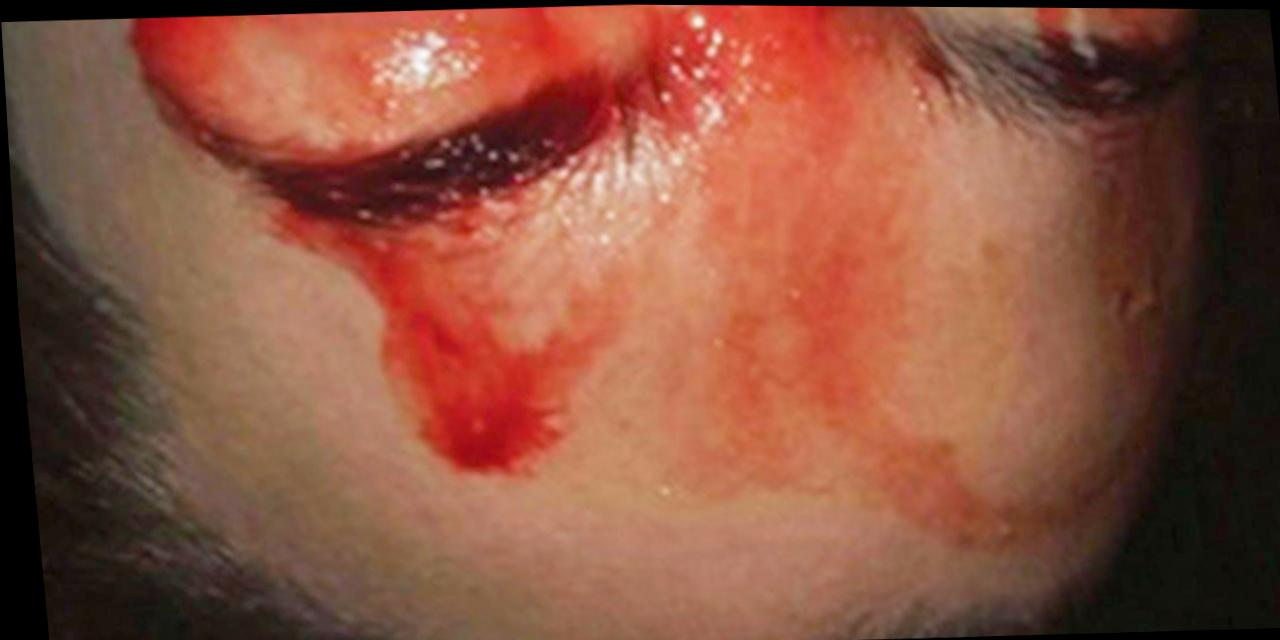Fire: (130, 4, 1188, 539)
